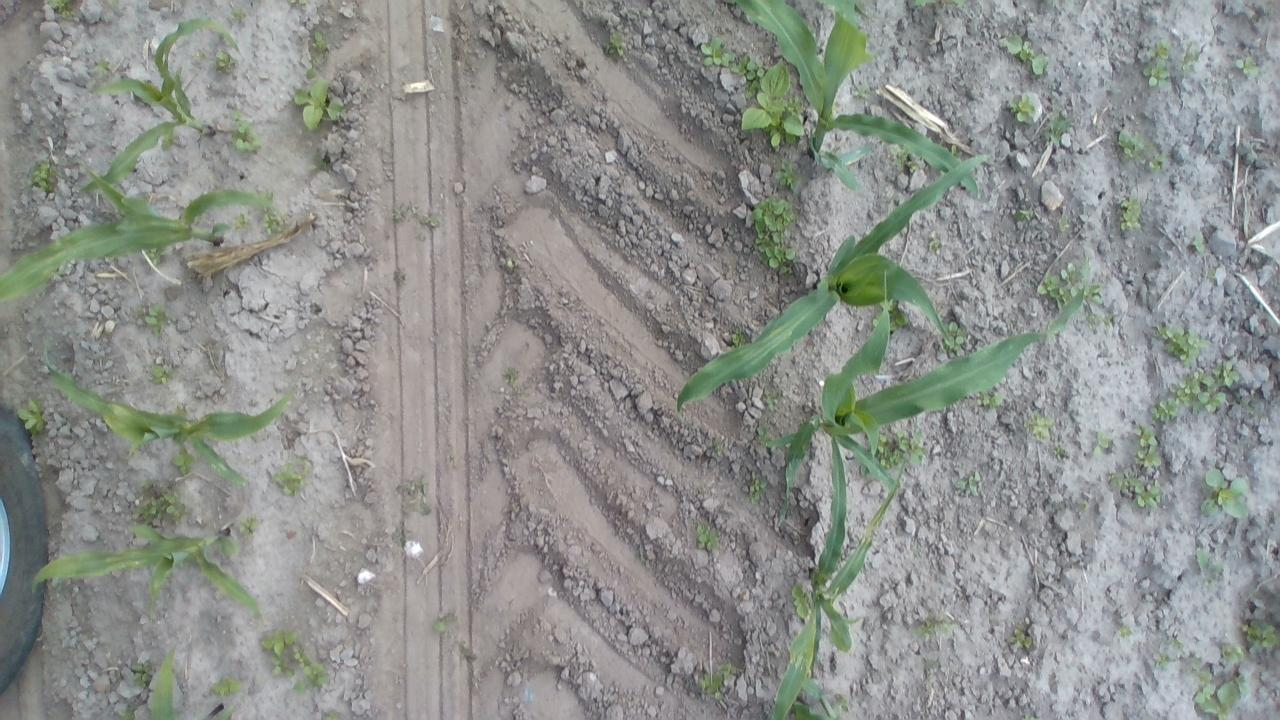Maize: (768, 257, 1091, 526), (676, 153, 988, 415), (724, 0, 981, 201), (0, 161, 284, 303), (768, 438, 906, 720), (41, 336, 291, 486), (81, 19, 242, 195), (33, 526, 260, 620), (150, 646, 236, 720), (791, 675, 842, 720), (160, 128, 178, 150)
Weeds: (739, 57, 805, 148), (1168, 358, 1240, 413), (751, 194, 798, 276), (1198, 468, 1250, 520), (294, 78, 342, 132), (1194, 673, 1248, 720), (1154, 324, 1208, 366), (1035, 262, 1081, 306), (876, 429, 926, 469), (1002, 34, 1048, 77), (291, 643, 329, 694), (731, 52, 769, 100), (136, 489, 186, 525), (230, 108, 264, 154), (698, 663, 733, 702), (1240, 619, 1280, 653), (272, 461, 310, 496), (1120, 476, 1160, 508), (871, 300, 910, 332), (1133, 424, 1161, 468), (1118, 128, 1154, 162), (699, 34, 736, 66), (913, 614, 958, 640), (136, 302, 170, 336), (1196, 546, 1224, 586), (17, 397, 47, 434), (888, 142, 922, 174), (260, 628, 296, 658), (26, 160, 58, 192), (774, 158, 804, 190), (1118, 194, 1142, 232), (406, 480, 432, 514), (940, 321, 966, 354), (1148, 396, 1181, 422), (1024, 413, 1054, 441), (1182, 656, 1211, 684), (1009, 92, 1035, 123), (792, 582, 812, 622), (1046, 108, 1068, 144), (1142, 59, 1169, 88), (171, 444, 196, 474), (955, 472, 982, 498), (210, 677, 243, 698), (746, 472, 767, 505), (1006, 622, 1032, 648), (696, 523, 720, 551), (1092, 430, 1114, 459), (1079, 312, 1114, 330), (262, 212, 288, 236), (130, 662, 153, 689), (1180, 42, 1200, 72), (602, 29, 624, 56), (150, 364, 177, 386), (975, 391, 1004, 410), (1234, 56, 1260, 77), (47, 0, 77, 18), (272, 656, 296, 678), (434, 612, 456, 636), (212, 52, 236, 74), (144, 245, 167, 267), (762, 388, 782, 413), (1220, 643, 1246, 662), (240, 515, 258, 542), (1146, 40, 1170, 59), (306, 154, 331, 172), (1084, 282, 1103, 304), (306, 56, 324, 79), (232, 212, 252, 232), (907, 0, 964, 7), (1152, 650, 1174, 668), (310, 30, 328, 52), (942, 142, 961, 162), (118, 702, 138, 720), (730, 327, 746, 349), (420, 213, 441, 229), (1190, 232, 1206, 253), (1148, 153, 1166, 171), (93, 58, 112, 75), (927, 231, 942, 252), (258, 187, 276, 204), (392, 203, 408, 222), (1052, 441, 1066, 461), (1012, 208, 1032, 222), (394, 530, 408, 550), (852, 84, 869, 100), (834, 697, 850, 714), (757, 426, 772, 443), (1106, 472, 1122, 487), (1058, 212, 1070, 232), (504, 367, 519, 382), (1117, 625, 1133, 639), (230, 7, 246, 21), (713, 439, 723, 455), (194, 50, 208, 61), (860, 462, 870, 476), (458, 645, 470, 656), (322, 713, 340, 720), (937, 166, 948, 177), (1208, 266, 1216, 280), (296, 454, 308, 463), (1170, 638, 1180, 648), (289, 0, 306, 5), (140, 480, 150, 488), (1080, 501, 1086, 509), (107, 0, 116, 5)
